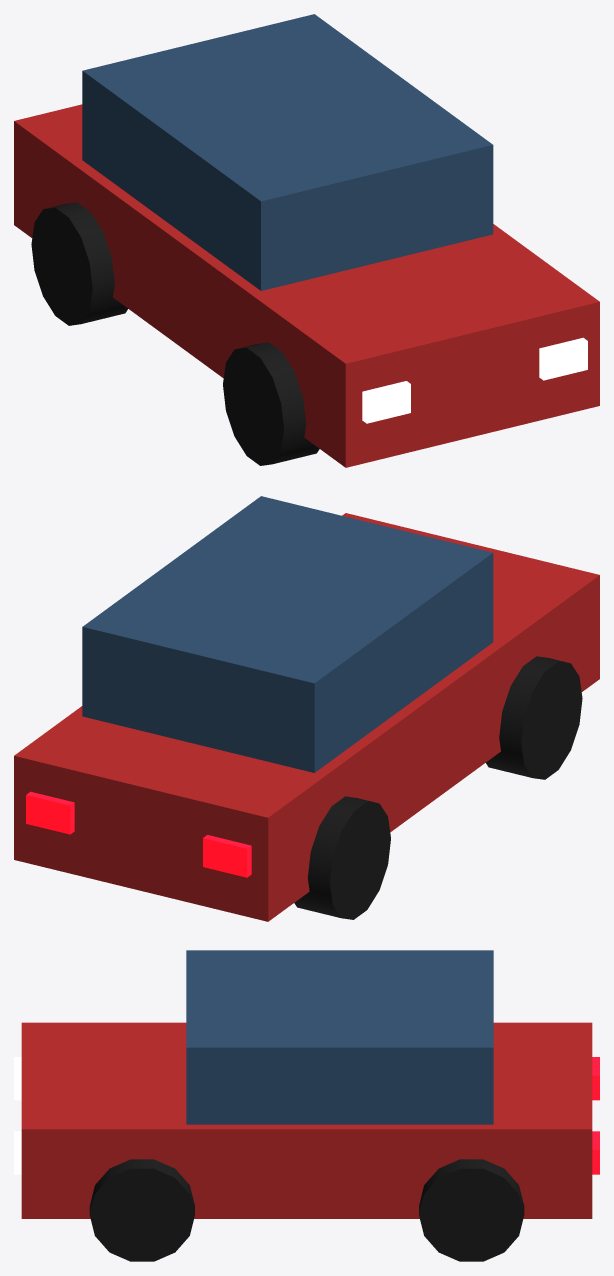
The model's file is sedan_red.glb.
The picture shows the model from 3 angles, top to bottom: view 1: azimuth 30°, elevation 25°; view 2: azimuth 150°, elevation 25°; view 3: azimuth 270°, elevation 25°; orthographic projection. The views are drawn at different scales.
Size of the model in its own units: 2.7 by 2.01 by 5.34.
